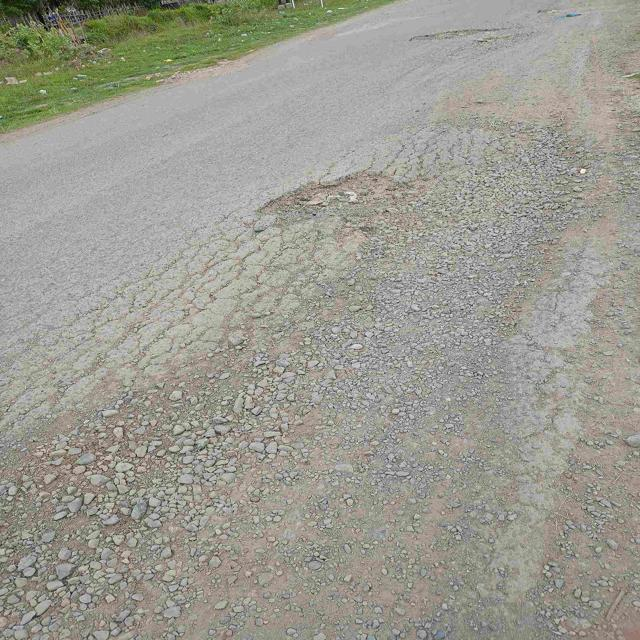Lubang: (249, 163, 399, 244)
